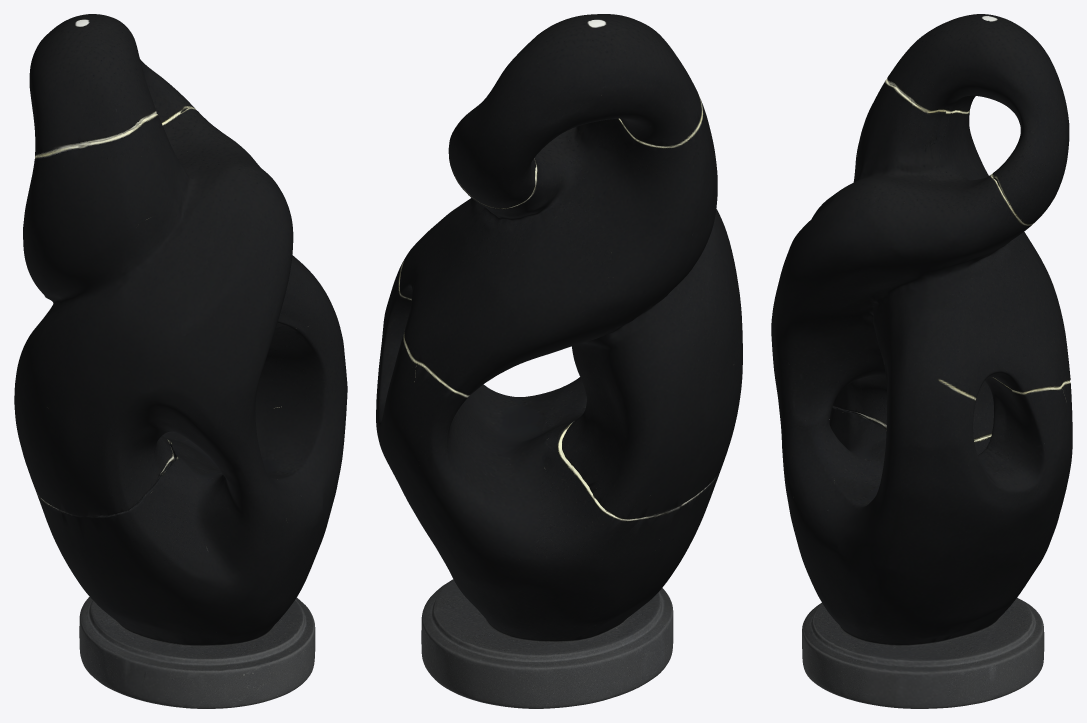
File: raw.glb
3 views of the same model, side by side, from view 1: azimuth 30°, elevation 25°; view 2: azimuth 150°, elevation 25°; view 3: azimuth 270°, elevation 25° (orthographic). The views are drawn at different scales.
Parts seen in each view (by area): view 1: Meshy_AI_Ebon_Flow_0912182439_texture; view 2: Meshy_AI_Ebon_Flow_0912182439_texture; view 3: Meshy_AI_Ebon_Flow_0912182439_texture.
Part boxes in pixels (<box>): Meshy_AI_Ebon_Flow_0912182439_texture: <box>14,14,347,708</box>; Meshy_AI_Ebon_Flow_0912182439_texture: <box>376,14,742,708</box>; Meshy_AI_Ebon_Flow_0912182439_texture: <box>771,14,1072,708</box>.
Bounding box in the file's own units: 0.1283 × 0.254 × 0.114.
Materials: 1 (1 with a texture image).
